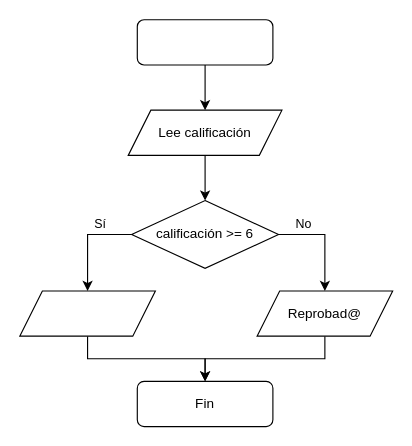
This 412x446 diagram has some shape labels left out. The shapes that lost their labels are listed below. From the top down, each one's box as (x1, y1, x2, y2) in pixels, then its label:
(136, 19, 273, 65): Inicio
(19, 290, 155, 336): Aprobad@
